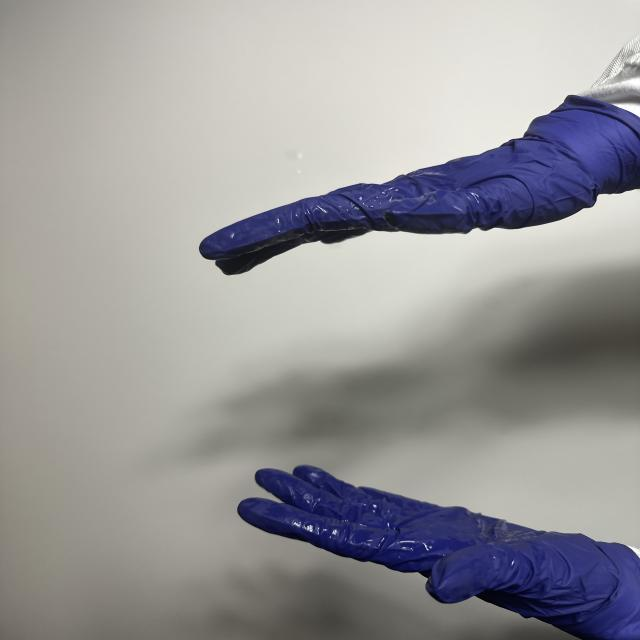gloves_contaminated: (200, 96, 640, 274), (238, 465, 640, 640)
